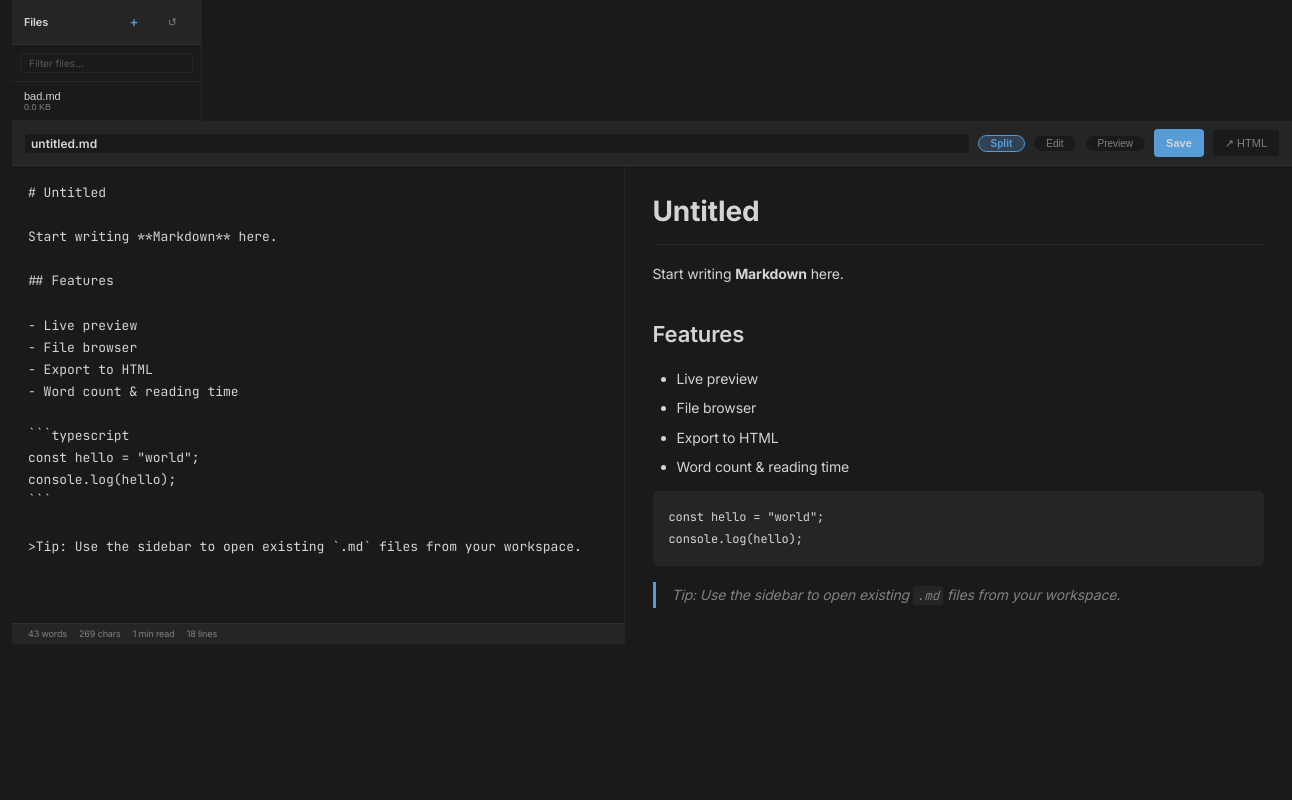
Scenario: MarkdownPanel — workspace files › Given a file read failure, then the error is announced
This screenshot has width=1292, height=800.
Click the button "bad.md 0.0 KB". click: [106, 102]
box: left=12, top=82, right=201, bottom=121
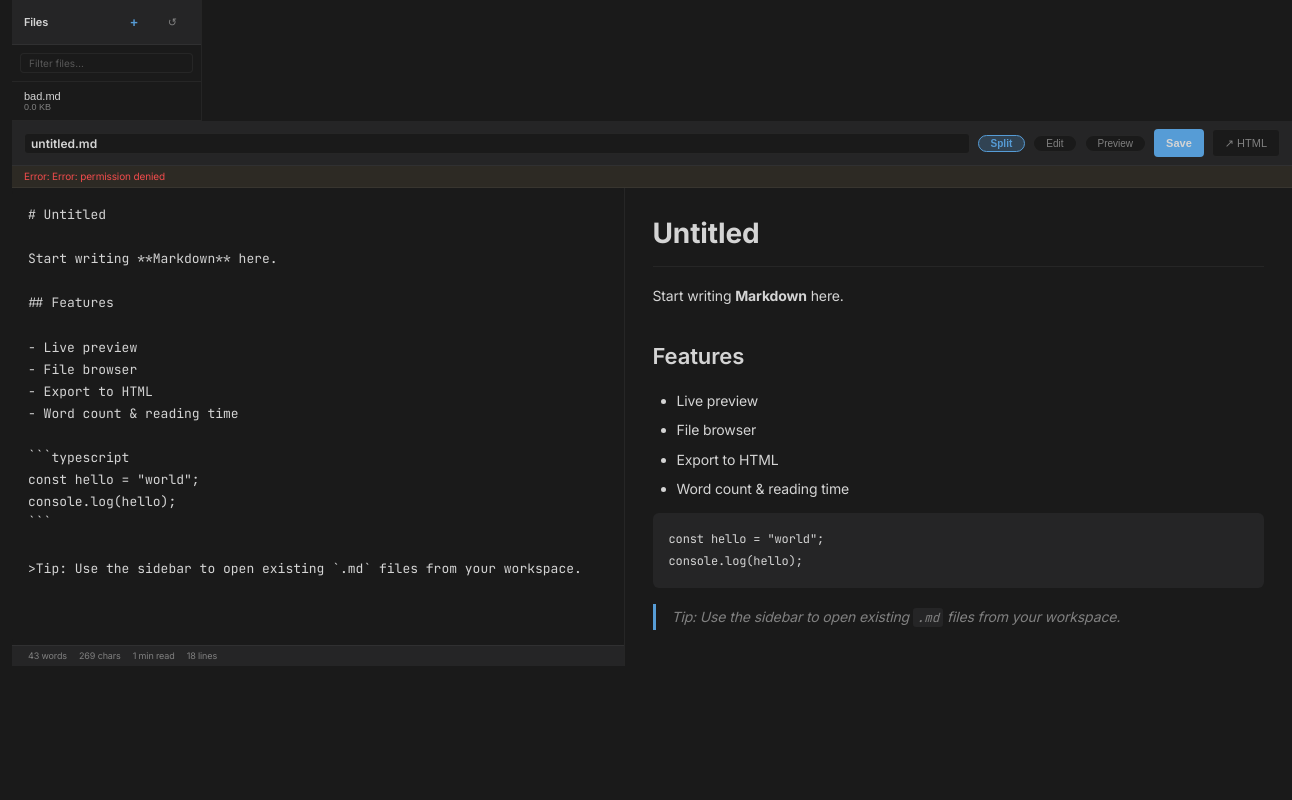
Now the message shows "permission denied", box left=24, top=170, right=165, bottom=182
